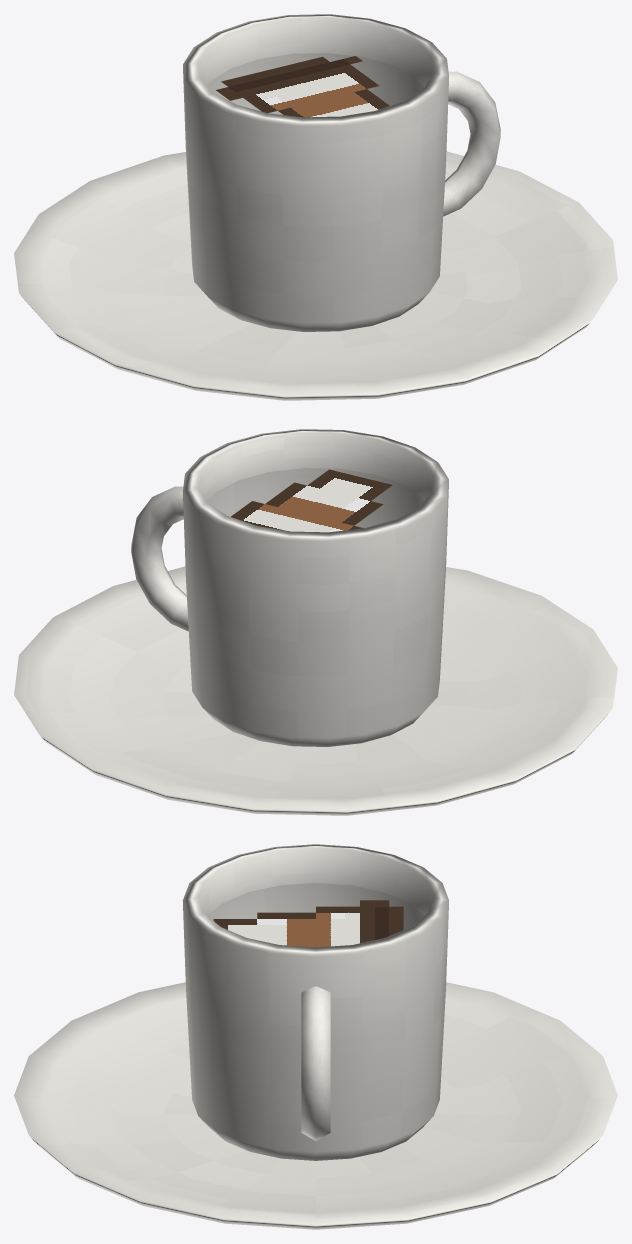
The model's file is coffeecup.obj.
3 renders of one model, top to bottom at view 1: azimuth 30°, elevation 25°; view 2: azimuth 150°, elevation 25°; view 3: azimuth 270°, elevation 25°, orthographic.
Visible parts, largest first — view 1: coffeecup; view 2: coffeecup; view 3: coffeecup.
Boxes of the visible parts, x1,y1,x2,y2 form: coffeecup: [14, 14, 617, 400]; coffeecup: [14, 429, 617, 815]; coffeecup: [14, 844, 617, 1229].
Bounding box in the file's own units: 0.2437 × 0.1088 × 0.2437.
